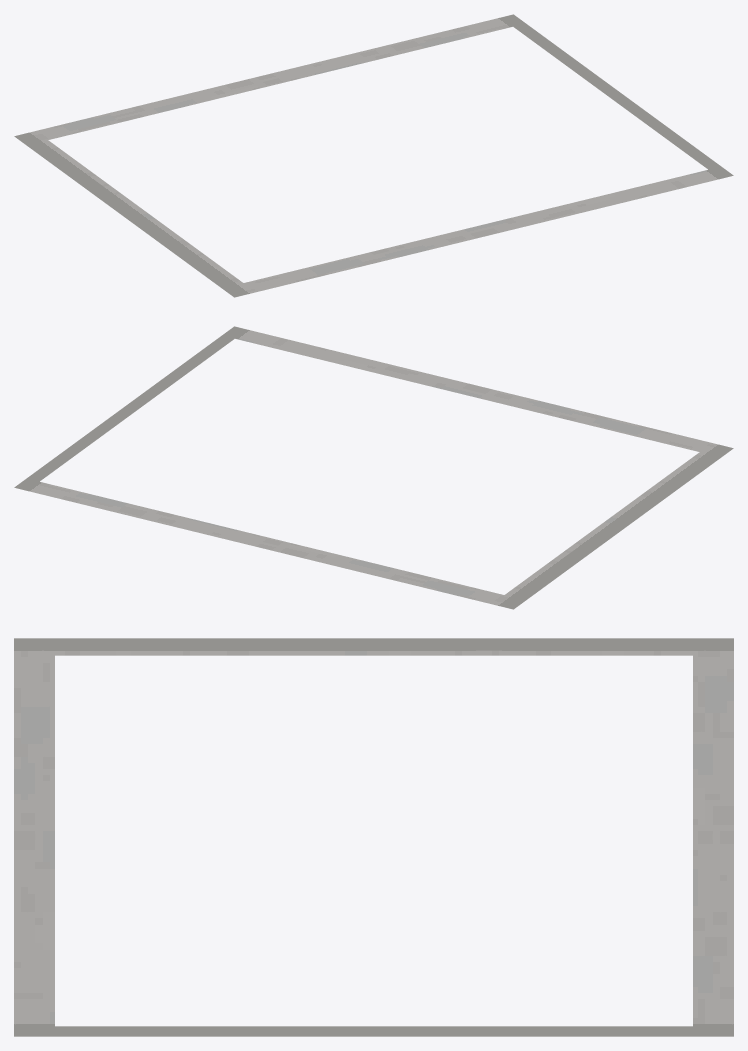
The model's file is kd_stage_135ded_4_129_exterior_piece_0.glb.
The picture shows the model from 3 angles, top to bottom: view 1: azimuth 30°, elevation 25°; view 2: azimuth 150°, elevation 25°; view 3: azimuth 270°, elevation 25°; orthographic projection. The views are drawn at different scales.
Parts seen in each view (by area): view 1: kd_stage_135ded_4_129_exterior_piece_0; view 2: kd_stage_135ded_4_129_exterior_piece_0; view 3: kd_stage_135ded_4_129_exterior_piece_0.
Boxes of the visible parts, x1=… form: kd_stage_135ded_4_129_exterior_piece_0: x1=14, y1=14, x2=733, y2=297; kd_stage_135ded_4_129_exterior_piece_0: x1=14, y1=326, x2=733, y2=609; kd_stage_135ded_4_129_exterior_piece_0: x1=14, y1=638, x2=733, y2=1036.
Size of the model in its own units: 1.15 by 2.98e-08 by 0.8777.
1 material, 1 textured.
